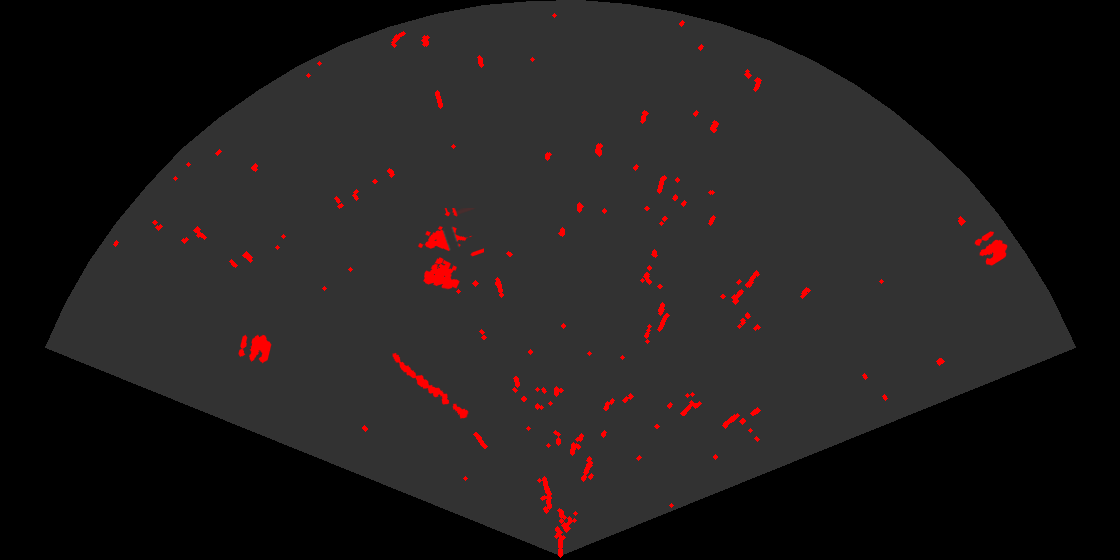ball: (973, 230, 1009, 267), (237, 333, 273, 365)
cage: (417, 208, 484, 291)
chain: (391, 351, 470, 420)
